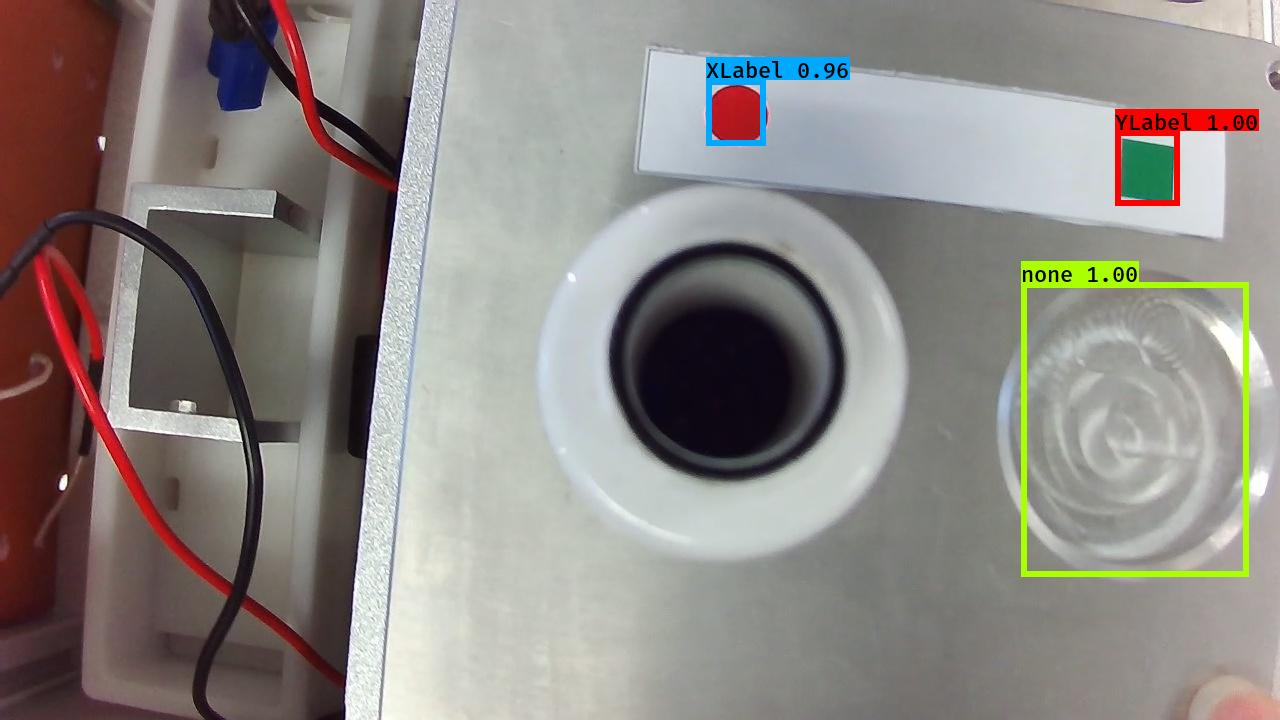XLabel: (701, 78, 768, 146)
YLabel: (1115, 133, 1183, 206)
none: (986, 256, 1280, 596)
whiteexcept: (526, 177, 916, 564)
